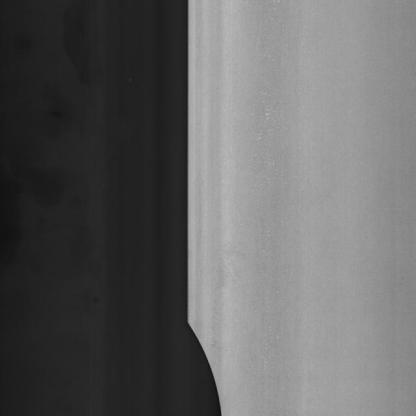crescent_gap: (180, 316, 228, 416)
